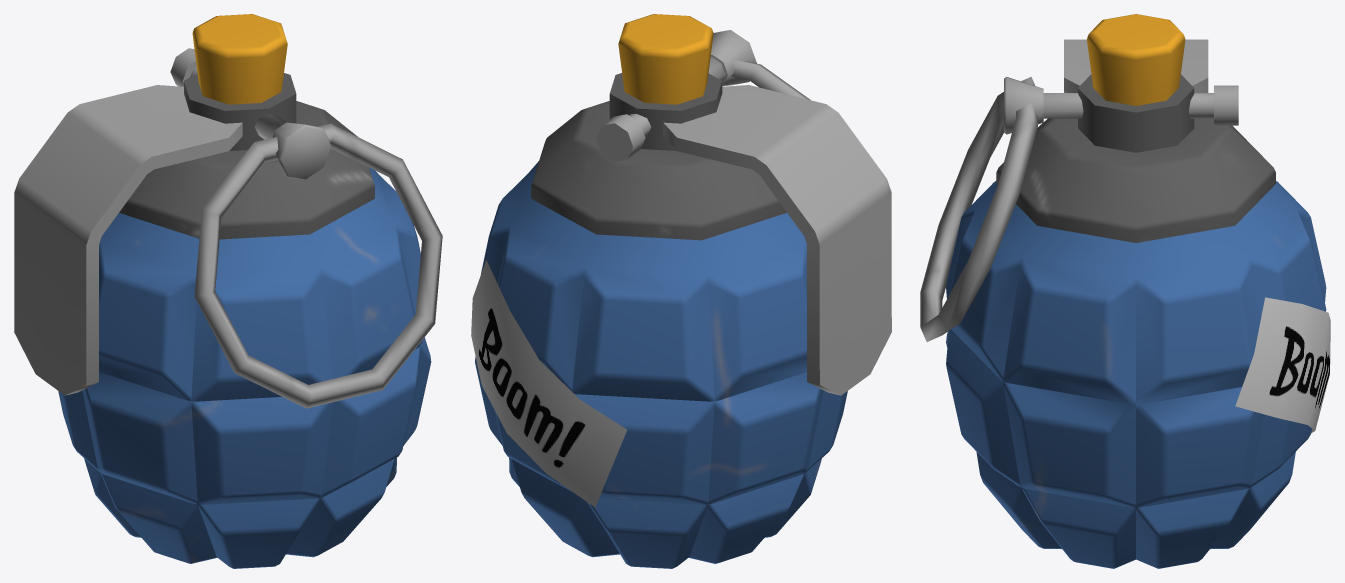
The model's file is damage granade.fbx.
3 views of the same model, side by side, from view 1: azimuth 30°, elevation 25°; view 2: azimuth 150°, elevation 25°; view 3: azimuth 270°, elevation 25° (orthographic).
Visible parts, largest first — view 1: Sphere.001; view 2: Sphere.001; view 3: Sphere.001.
Boxes of the visible parts, bbox=[...] form: Sphere.001: bbox=[14, 14, 442, 568]; Sphere.001: bbox=[471, 14, 891, 568]; Sphere.001: bbox=[920, 14, 1330, 568].
Size of the model in its own units: 11.01 by 14.84 by 11.04.
